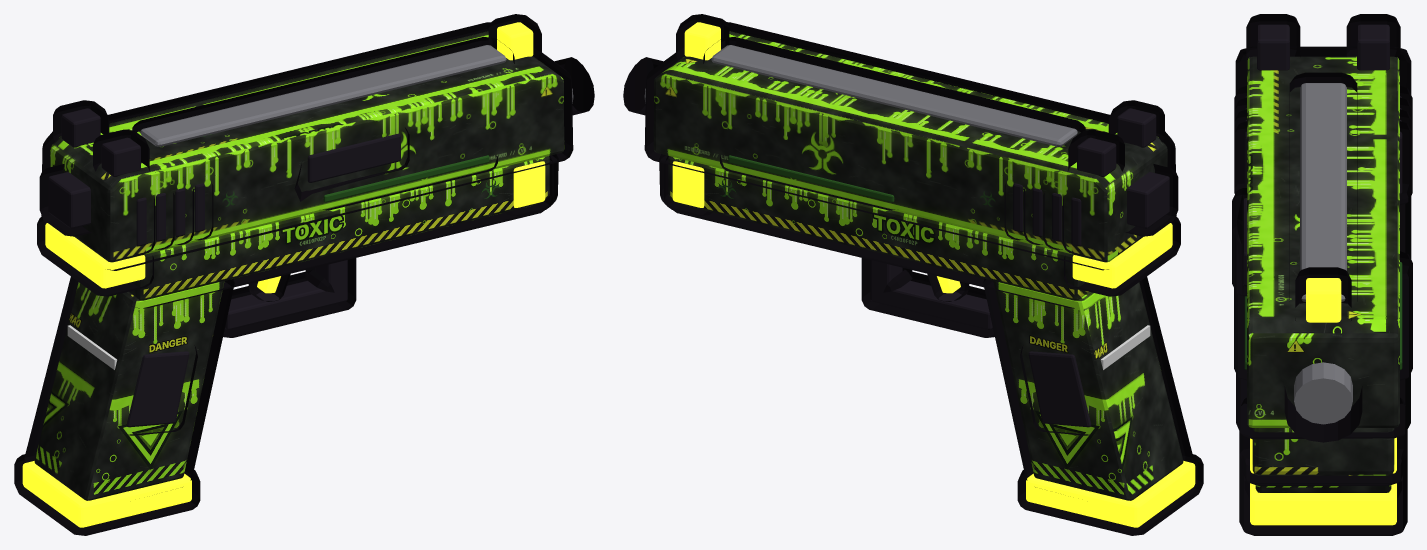
The model's file is Deagle_Toxic.fbx.
3 views of the same model, side by side, from view 1: azimuth 30°, elevation 25°; view 2: azimuth 150°, elevation 25°; view 3: azimuth 270°, elevation 25° (orthographic). The views are drawn at different scales.
Parts seen in each view (by area): view 1: ChargingHandle_Toxic, Body_Toxic, ChargingHandle_Contour, Body_Contour, Body_Noir, ChargingHandle_Gris, ChargingHandle_Noir, Magazine_VertAcide, Body_VertAcide, Magazine_Contour, ChargingHandle_VertSombre, ChargingHandle_VertAcide; view 2: ChargingHandle_Toxic, Body_Toxic, Body_Contour, ChargingHandle_Contour, Body_Noir, ChargingHandle_Gris, Magazine_VertAcide, ChargingHandle_Noir, Body_VertAcide, Magazine_Contour, ChargingHandle_VertSombre, ChargingHandle_VertAcide; view 3: ChargingHandle_Toxic, ChargingHandle_Contour, ChargingHandle_Gris, Body_Toxic, Magazine_VertAcide, Body_Contour, ChargingHandle_Noir, Body_Gris, Magazine_Contour, ChargingHandle_VertAcide, ChargingHandle_VertSombre.
Part boxes in pixels (x1,y1,x2,y2): ChargingHandle_Toxic: (50, 31, 564, 262); Body_Toxic: (34, 156, 549, 500); ChargingHandle_Contour: (41, 14, 573, 270); Body_Contour: (24, 57, 594, 487); Body_Noir: (48, 172, 347, 427); ChargingHandle_Gris: (140, 45, 506, 146); ChargingHandle_Noir: (61, 108, 400, 246); Magazine_VertAcide: (22, 461, 191, 527); Body_VertAcide: (45, 161, 545, 288); Magazine_Contour: (14, 454, 200, 535); ChargingHandle_VertSombre: (323, 155, 489, 202); ChargingHandle_VertAcide: (497, 22, 533, 60); ChargingHandle_Toxic: (653, 31, 1167, 262); Body_Toxic: (668, 156, 1183, 500); Body_Contour: (623, 57, 1193, 487); ChargingHandle_Contour: (644, 14, 1176, 270); Body_Noir: (870, 172, 1169, 427); ChargingHandle_Gris: (711, 45, 1077, 146); Magazine_VertAcide: (1026, 461, 1195, 527); ChargingHandle_Noir: (1013, 108, 1156, 246); Body_VertAcide: (672, 161, 1172, 288); Magazine_Contour: (1017, 454, 1203, 535); ChargingHandle_VertSombre: (728, 155, 894, 202); ChargingHandle_VertAcide: (684, 22, 720, 60); ChargingHandle_Toxic: (1247, 56, 1399, 427); ChargingHandle_Contour: (1232, 14, 1412, 439); ChargingHandle_Gris: (1300, 83, 1346, 301); Body_Toxic: (1252, 428, 1394, 492); Magazine_VertAcide: (1250, 483, 1396, 525); Body_Contour: (1239, 386, 1407, 498); ChargingHandle_Noir: (1242, 24, 1402, 286); Body_Gris: (1294, 362, 1352, 424); Magazine_Contour: (1239, 471, 1407, 535); ChargingHandle_VertAcide: (1306, 278, 1341, 322); ChargingHandle_VertSombre: (1244, 262, 1402, 369).
Size of the model in its own units: 1.31 by 0.8907 by 0.3067.
16 materials, 3 textured.
